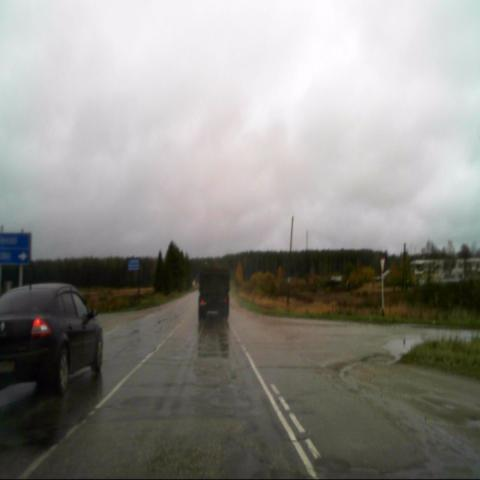2_4: (380, 258, 387, 271)
